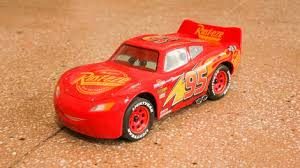mcqueen: (50, 18, 243, 143)
